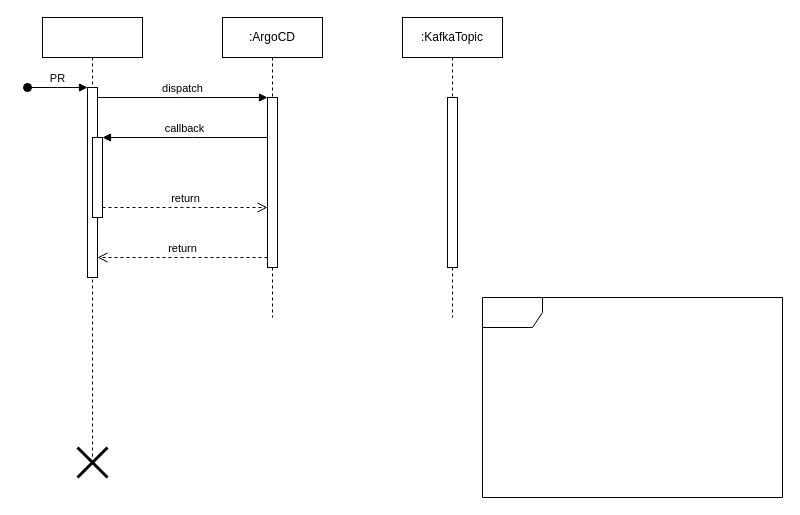
Some shapes in this 800 by 515 pixel diagram are drawn without their labels. Here are the shapes that lost their labels. From the top down, the centre of each, then its label:
At (92,237): ":GitHub".
At (632,397): "frame".
